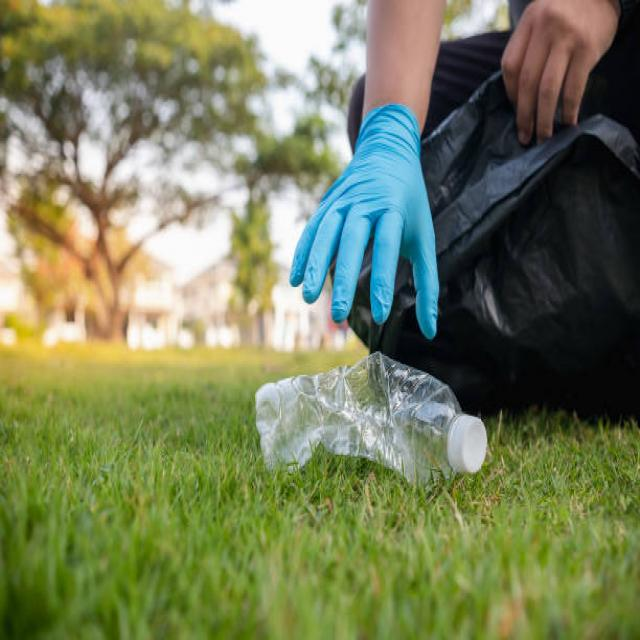plastic: (258, 353, 488, 489)
